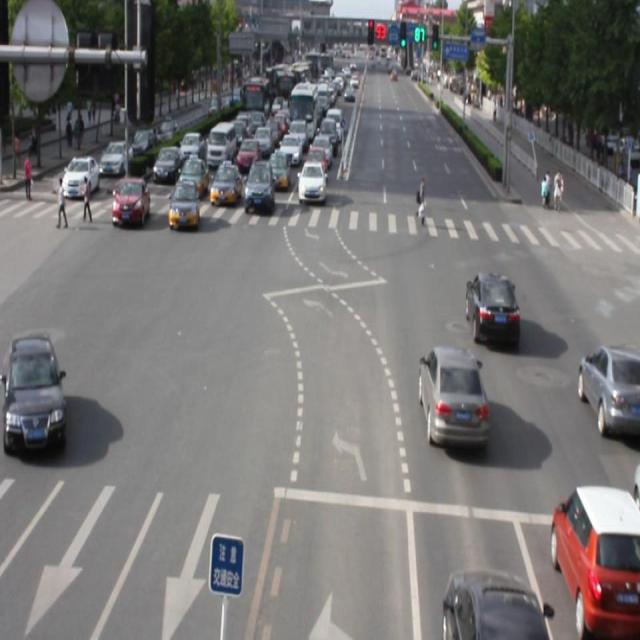car: (550, 481, 640, 640), (1, 334, 66, 458), (440, 565, 547, 640), (418, 345, 487, 446), (576, 341, 640, 436), (465, 268, 521, 346), (170, 179, 199, 230)
